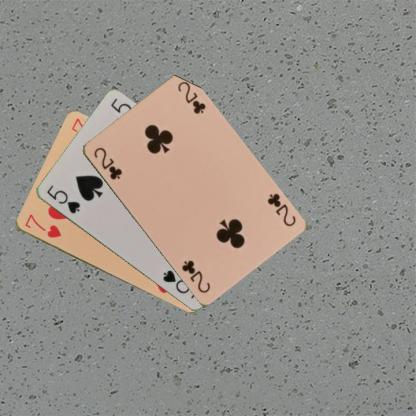2c: (90, 144, 124, 181), (264, 190, 297, 228)
5s: (43, 183, 82, 216)
7h: (22, 211, 62, 240)
